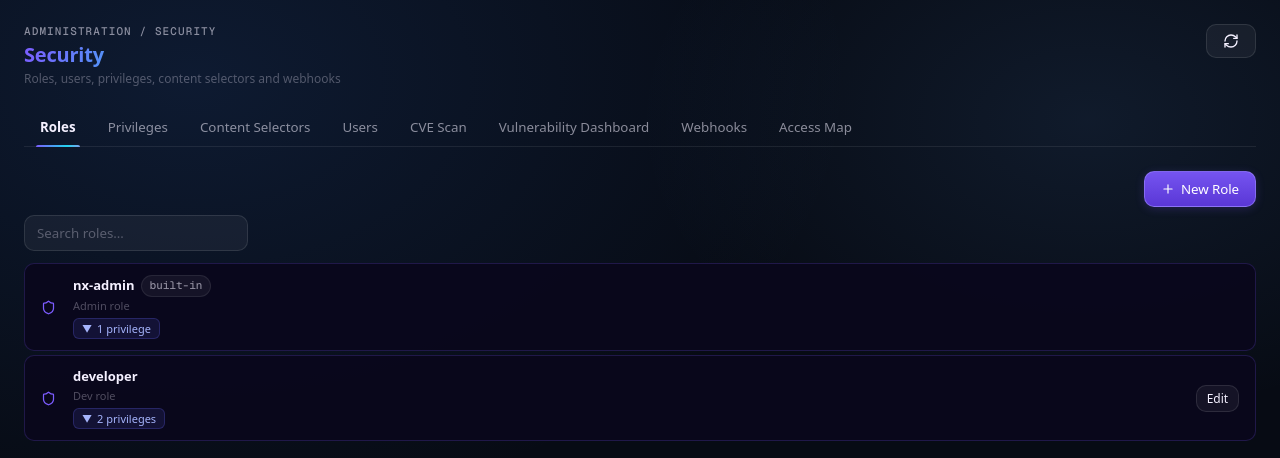
Test: SecurityPage › switches to the Privileges tab and lists privileges
Check: the text "nx-admin" is shown, box [73,276,135,296]
Click the button "Privileges" at (138,127), box [92,108,184,146]
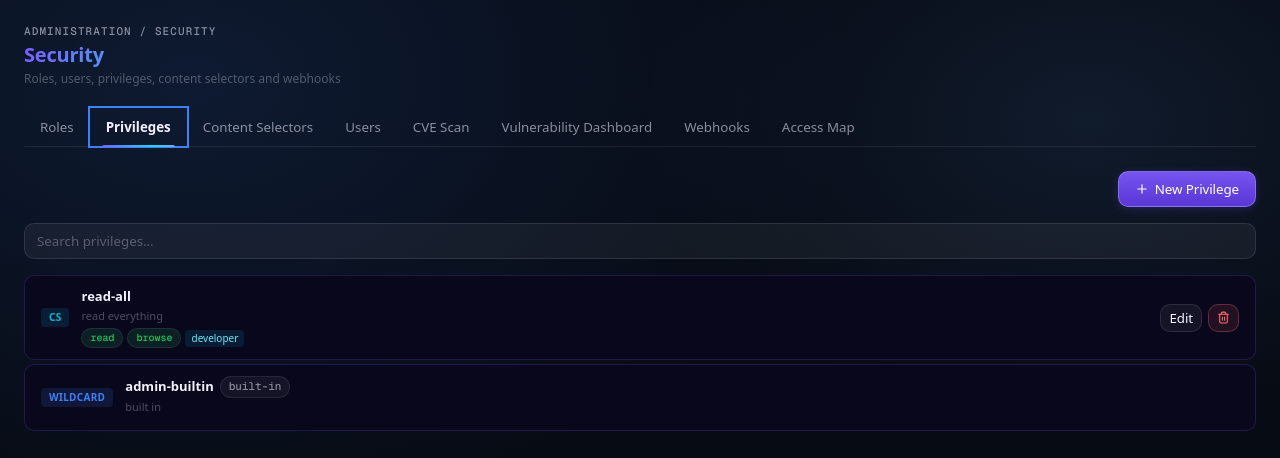
Check: the text "developer" is shown, box [186,330,244,347]
Check: the text "read-all" is shown, box [82,287,131,307]
Check: the text "admin-builtin" is shown, box [125,377,214,397]
